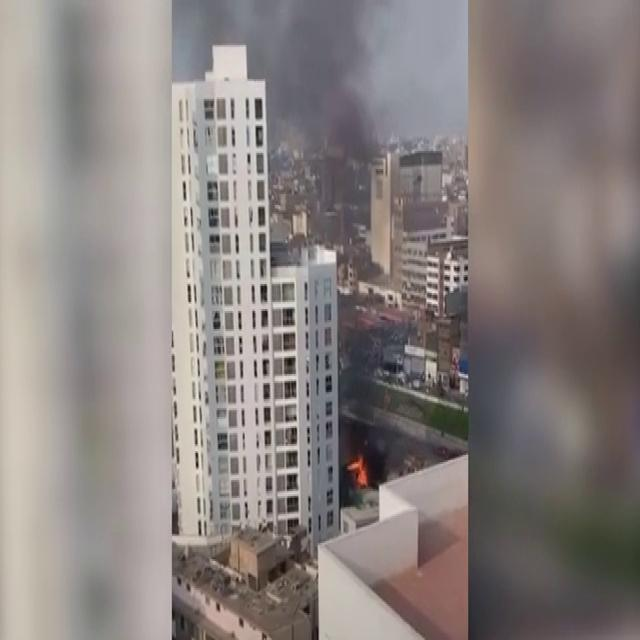Fire: (344, 454, 372, 491)
Smoke: (267, 13, 395, 161), (188, 6, 246, 72)
